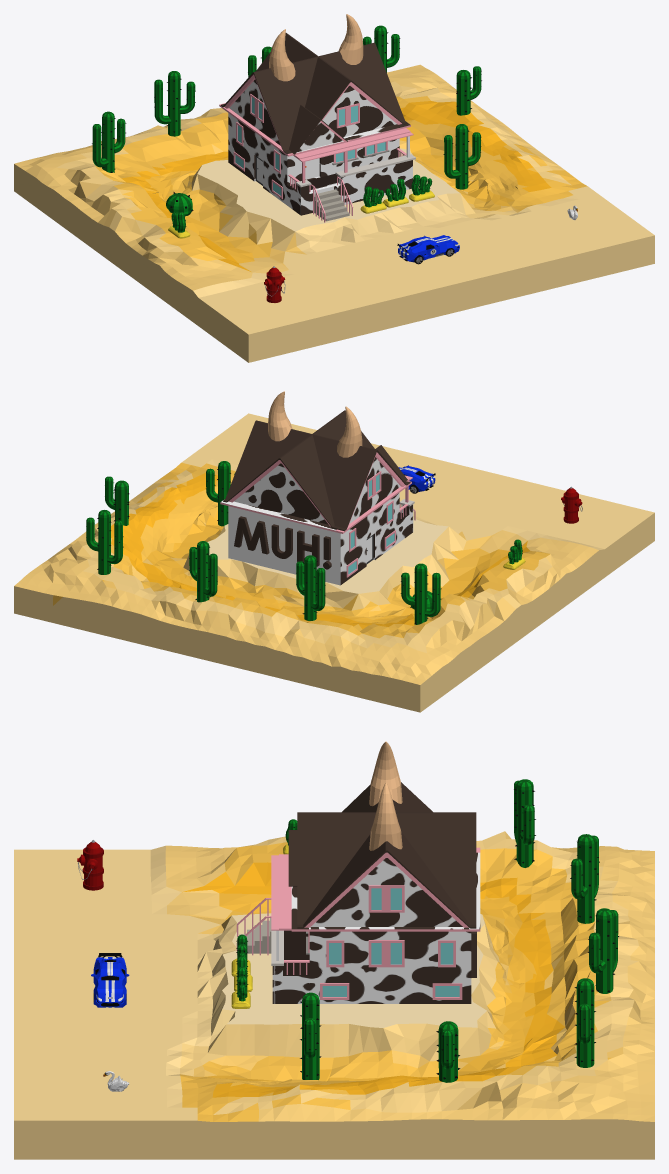
The picture shows the model from 3 angles, top to bottom: view 1: azimuth 30°, elevation 25°; view 2: azimuth 150°, elevation 25°; view 3: azimuth 270°, elevation 25°; orthographic projection. The views are drawn at different scales.
Parts seen in each view (by area): view 1: Cube.001, Cube.1242, Cylinder.037, Cylinder.044, Cylinder.045, VEHICLES_RACING_CAR, Cylinder.038, Cylinder.042, OBJRANDOM_FIRE_HYDRANT, Cylinder.041, Cylinder.039; view 2: Cube.001, Cube.1242, Cylinder.045, Cylinder.042, Cylinder.044, Cylinder.043, Cylinder.037, Cylinder.038, VEHICLES_RACING_CAR, OBJRANDOM_FIRE_HYDRANT; view 3: Cube.001, Cube.1242, Cylinder.044, Cylinder.043, VEHICLES_RACING_CAR, Cylinder.045, Cylinder.042, Cylinder.037, Cylinder.038, OBJRANDOM_FIRE_HYDRANT, Cylinder.041.
Part boxes in pixels (x1,y1,x2,y2): Cube.001: (14, 64, 654, 362); Cube.1242: (219, 14, 415, 222); Cylinder.037: (443, 124, 481, 189); Cylinder.044: (154, 71, 195, 136); Cylinder.045: (92, 111, 126, 172); VEHICLES_RACING_CAR: (397, 235, 459, 264); Cylinder.038: (456, 66, 481, 115); Cylinder.042: (363, 25, 400, 72); OBJRANDOM_FIRE_HYDRANT: (264, 266, 285, 302); Cylinder.041: (409, 174, 434, 201); Cylinder.039: (360, 186, 386, 213); Cube.001: (14, 413, 654, 712); Cube.1242: (220, 391, 415, 585); Cylinder.045: (400, 563, 441, 624); Cylinder.042: (86, 510, 123, 574); Cylinder.044: (296, 555, 325, 620); Cylinder.043: (189, 541, 217, 602); Cylinder.037: (206, 461, 235, 526); Cylinder.038: (105, 476, 129, 525); VEHICLES_RACING_CAR: (398, 465, 435, 493); OBJRANDOM_FIRE_HYDRANT: (561, 486, 582, 523); Cube.001: (14, 831, 654, 1159); Cube.1242: (236, 741, 480, 1003); Cylinder.044: (570, 834, 599, 923); Cylinder.043: (588, 908, 618, 993); VEHICLES_RACING_CAR: (91, 953, 129, 1007); Cylinder.045: (514, 779, 535, 867); Cylinder.042: (574, 978, 595, 1067); Cylinder.037: (300, 992, 321, 1079); Cylinder.038: (436, 1021, 460, 1082); OBJRANDOM_FIRE_HYDRANT: (77, 840, 103, 890); Cylinder.041: (231, 966, 250, 1008).
Bounding box in the file's own units: 4002 × 1886 × 4001.
35 materials, 2 textured.
